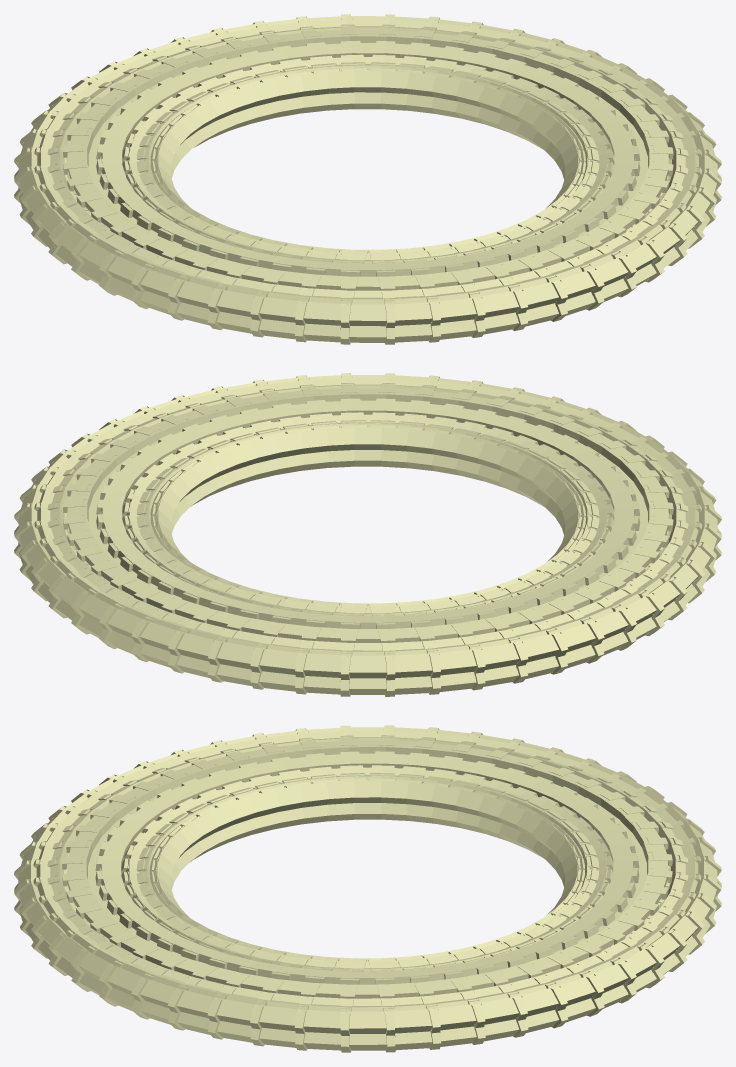
The model's file is ring2.fbx.
The picture shows the model from 3 angles, top to bottom: view 1: azimuth 30°, elevation 25°; view 2: azimuth 150°, elevation 25°; view 3: azimuth 270°, elevation 25°; orthographic projection.
Visible parts, largest first — view 1: Torus.001; view 2: Torus.001; view 3: Torus.001.
Boxes of the visible parts, bbox=[...] form: Torus.001: bbox=[14, 14, 721, 344]; Torus.001: bbox=[14, 373, 721, 696]; Torus.001: bbox=[14, 725, 721, 1052].
Size of the model in its own units: 672 by 51.84 by 672.
